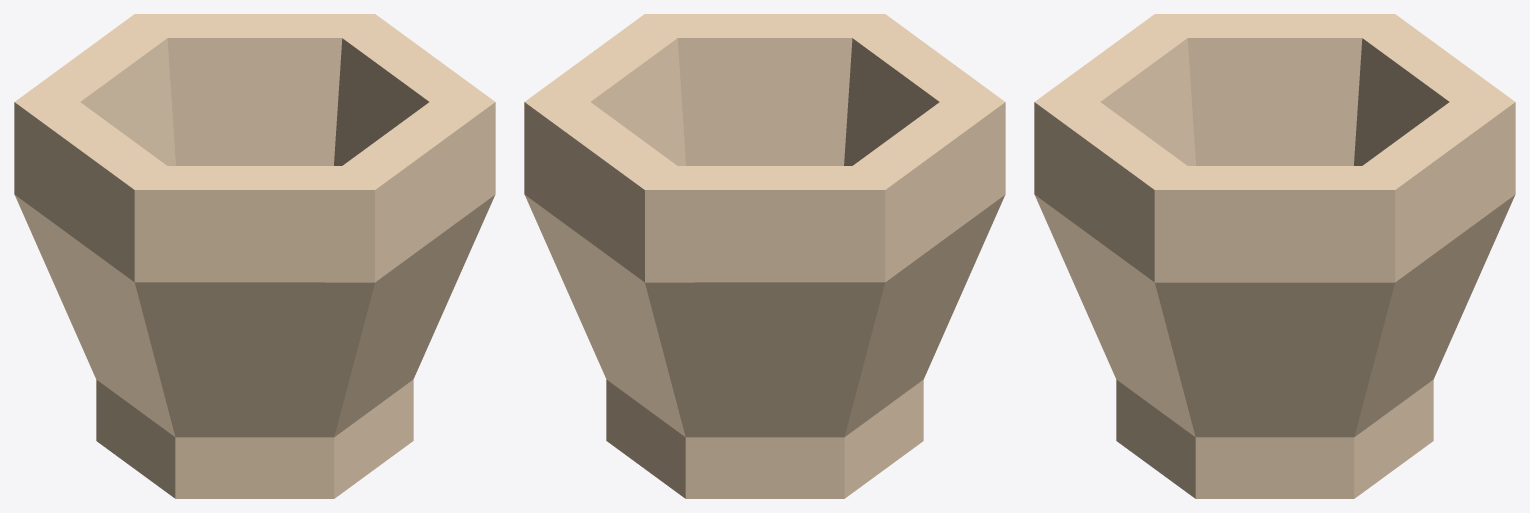
The picture shows the model from 3 angles, left to right: view 1: azimuth 30°, elevation 25°; view 2: azimuth 150°, elevation 25°; view 3: azimuth 270°, elevation 25°; orthographic projection.
Visible parts, largest first — view 1: iceCreamCup; view 2: iceCreamCup; view 3: iceCreamCup.
Boxes of the visible parts, x1,y1,x2,y2 form: iceCreamCup: (14, 14, 495, 498); iceCreamCup: (524, 14, 1005, 498); iceCreamCup: (1034, 14, 1515, 498).
Size of the model in its own units: 0.2011 by 0.1805 by 0.2322.
